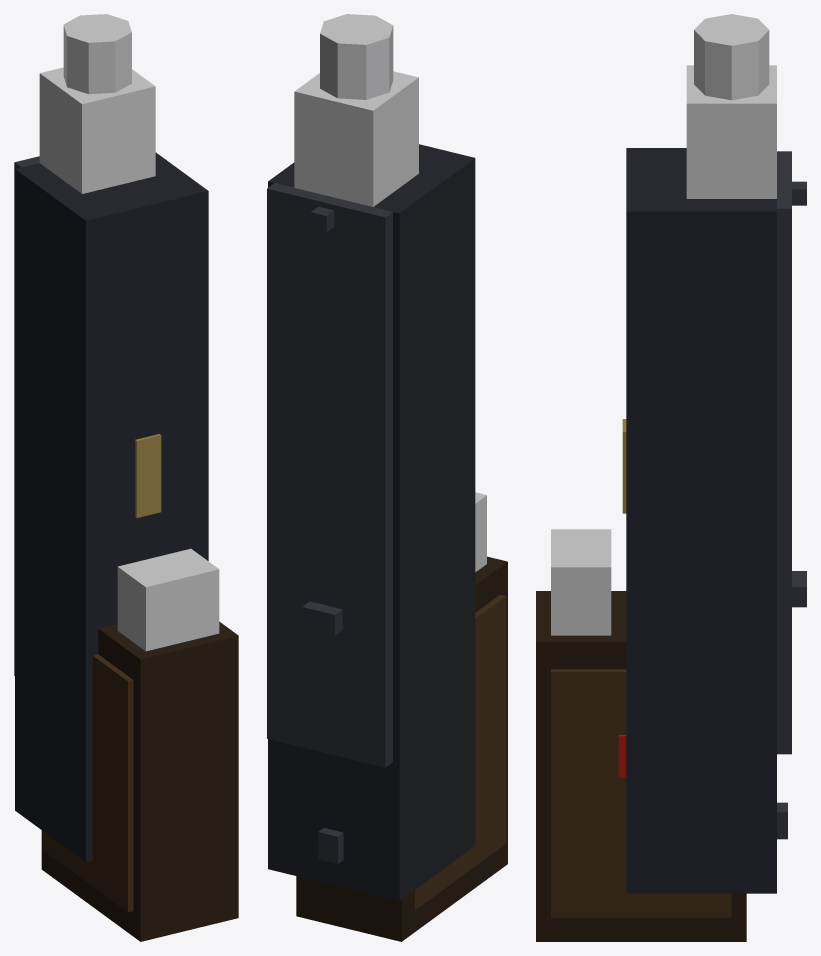
The model's file is gun_friendly_officer.glb.
3 renders of one model, left to right at view 1: azimuth 30°, elevation 25°; view 2: azimuth 150°, elevation 25°; view 3: azimuth 270°, elevation 25°, orthographic. The views are drawn at different scales.
Visible parts, largest first — view 1: gun_soviet_officer; view 2: gun_soviet_officer; view 3: gun_soviet_officer.
Boxes of the visible parts, bbox=[...] form: gun_soviet_officer: bbox=[14, 14, 238, 941]; gun_soviet_officer: bbox=[267, 14, 507, 941]; gun_soviet_officer: bbox=[536, 14, 806, 941].
Bounding box in the file's own units: 0.1 × 0.65 × 0.18.
